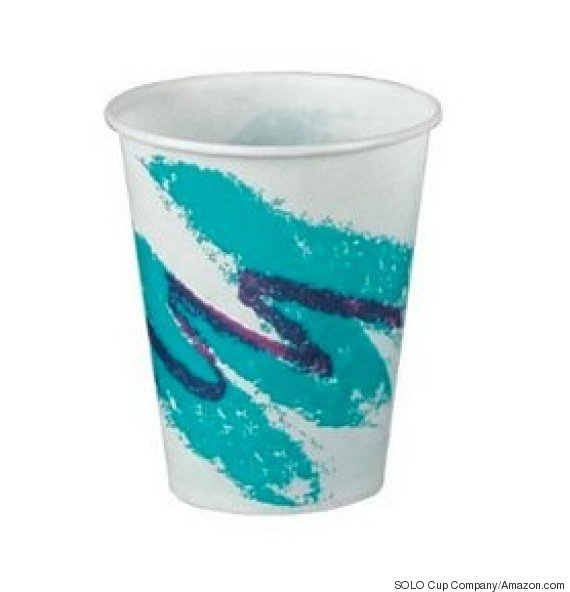cup: (100, 69, 447, 517)
